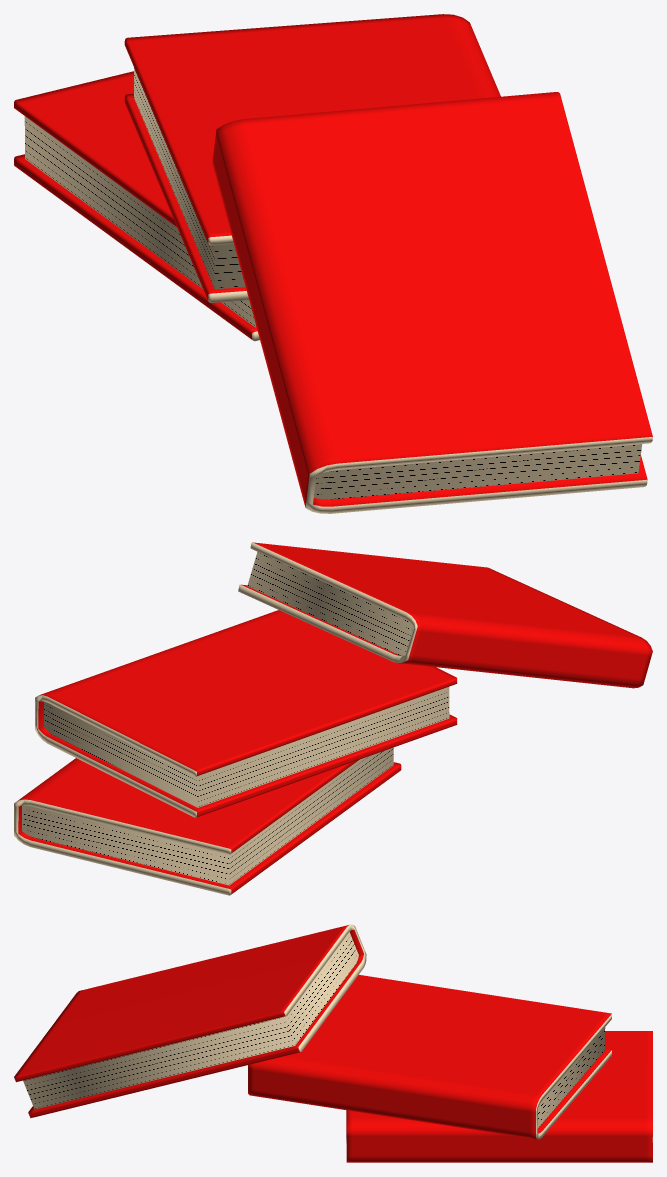
Rendered from books-three-red.fbx.
3 renders of one model, top to bottom at view 1: azimuth 30°, elevation 25°; view 2: azimuth 150°, elevation 25°; view 3: azimuth 270°, elevation 25°, orthographic. The views are drawn at different scales.
Visible parts, largest first — view 1: books_red; view 2: books_red; view 3: books_red.
Part boxes in pixels (box(x1,y1,x2,y2)): books_red: box(14, 14, 652, 513); books_red: box(14, 542, 652, 895); books_red: box(14, 924, 652, 1162).
Size of the model in its own units: 14.6 by 6.1 by 24.61.
1 material, 1 textured.
